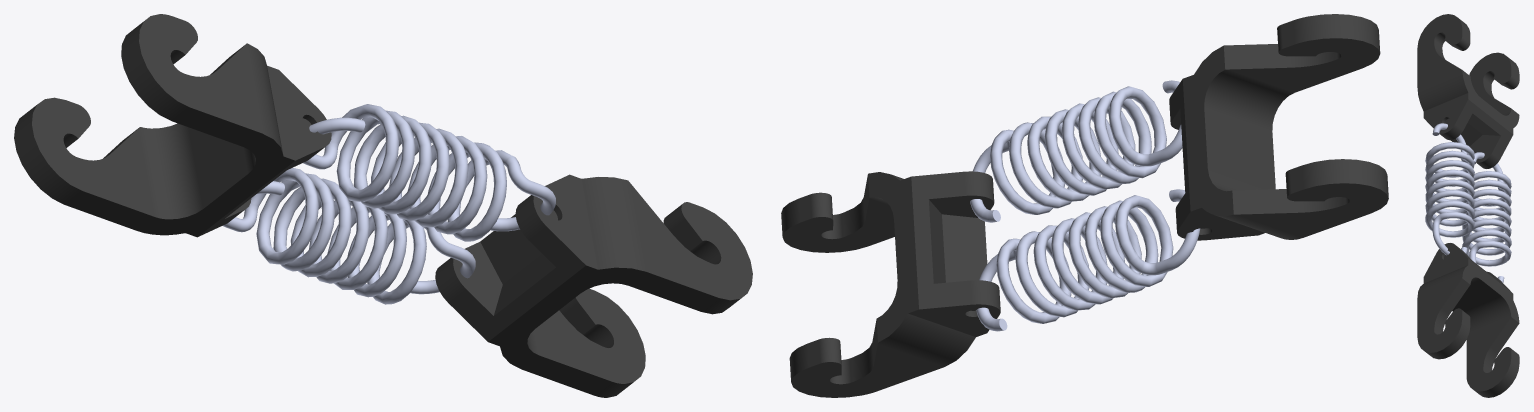
The picture shows the model from 3 angles, left to right: view 1: azimuth 30°, elevation 25°; view 2: azimuth 150°, elevation 25°; view 3: azimuth 270°, elevation 25°; orthographic projection. The views are drawn at different scales.
Visible parts, largest first — view 1: IRB360_6-1600-STD-4D_rev03_LA2_CL_CAD; view 2: IRB360_6-1600-STD-4D_rev03_LA2_CL_CAD; view 3: IRB360_6-1600-STD-4D_rev03_LA2_CL_CAD.
Part boxes in pixels (bbox=[...]): IRB360_6-1600-STD-4D_rev03_LA2_CL_CAD: bbox=[14, 14, 752, 397]; IRB360_6-1600-STD-4D_rev03_LA2_CL_CAD: bbox=[781, 14, 1388, 397]; IRB360_6-1600-STD-4D_rev03_LA2_CL_CAD: bbox=[1417, 14, 1519, 397].
Bounding box in the file's own units: 0.1142 × 0.0819 × 0.0294.
